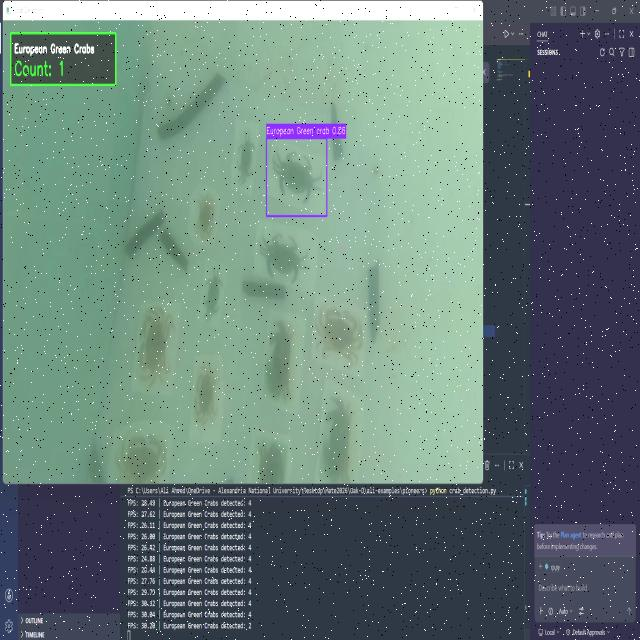European_Green_Crab: (270, 143, 323, 209), (253, 227, 309, 289), (198, 264, 224, 324), (231, 128, 254, 187)
